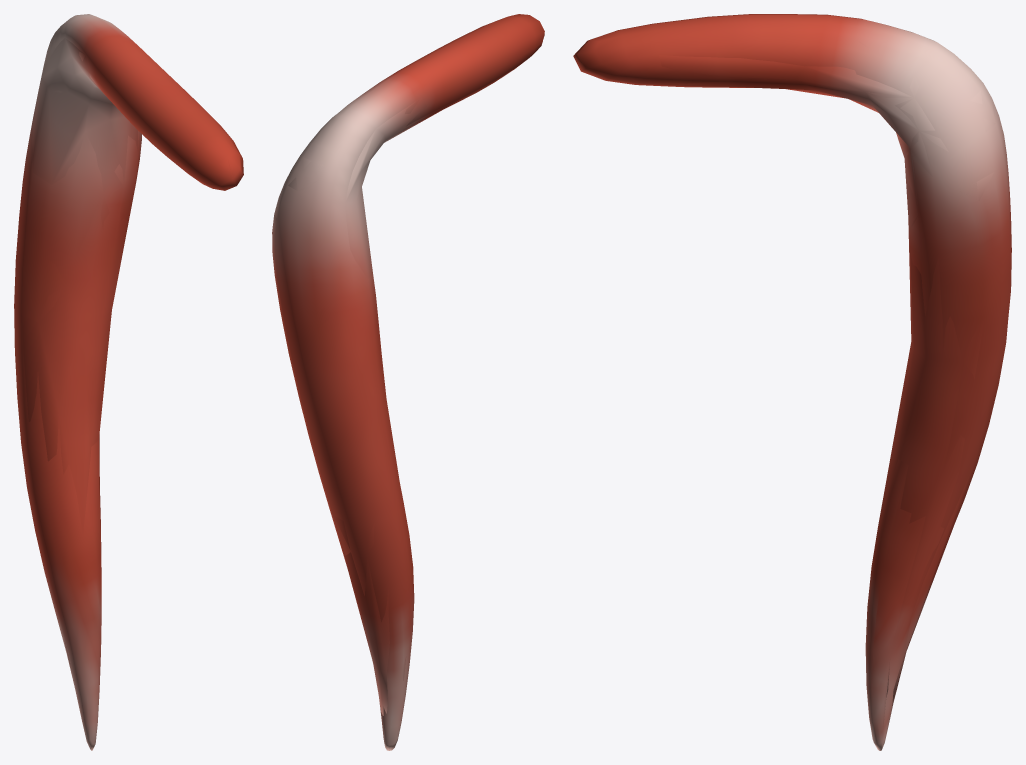
File: R Ulnaris Lateralis.fbx
The picture shows the model from 3 angles, left to right: view 1: azimuth 30°, elevation 25°; view 2: azimuth 150°, elevation 25°; view 3: azimuth 270°, elevation 25°; orthographic projection. The views are drawn at different scales.
Visible parts, largest first — view 1: R Ulnaris Lateralis, R Ulnaris Lateralis low; view 2: R Ulnaris Lateralis, R Ulnaris Lateralis low; view 3: R Ulnaris Lateralis, R Ulnaris Lateralis low.
Part boxes in pixels (left/top/right/bottom): R Ulnaris Lateralis: left=14, top=14, right=243, bottom=750; R Ulnaris Lateralis low: left=21, top=34, right=234, bottom=669; R Ulnaris Lateralis: left=272, top=14, right=544, bottom=750; R Ulnaris Lateralis low: left=272, top=16, right=528, bottom=715; R Ulnaris Lateralis: left=573, top=14, right=1011, bottom=750; R Ulnaris Lateralis low: left=575, top=31, right=997, bottom=739.
Size of the model in its own units: 1.57 by 9.06 by 4.92.
